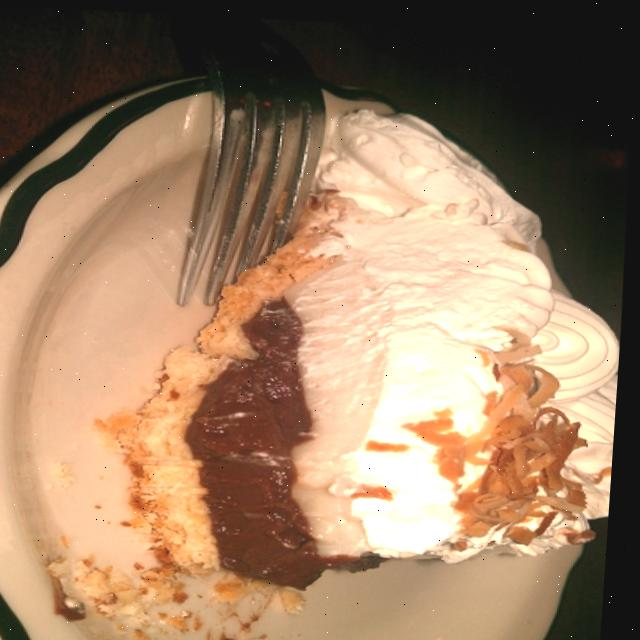蛋糕甜品: (49, 47, 638, 640)
